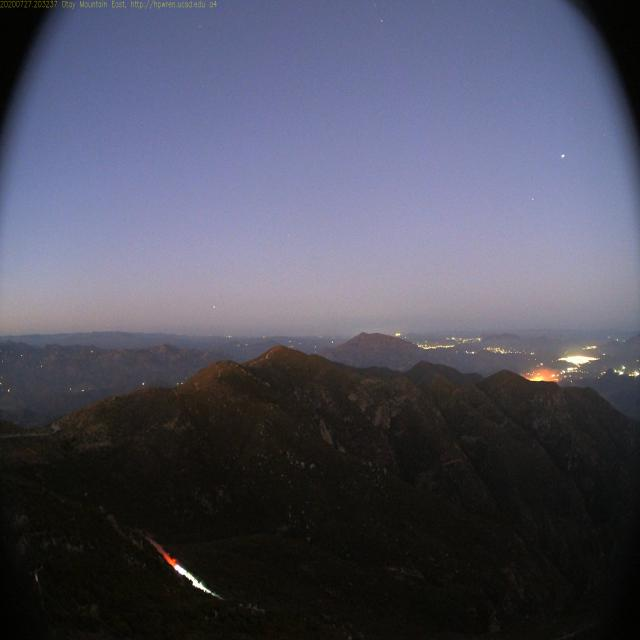smoke: (523, 357, 562, 389)
